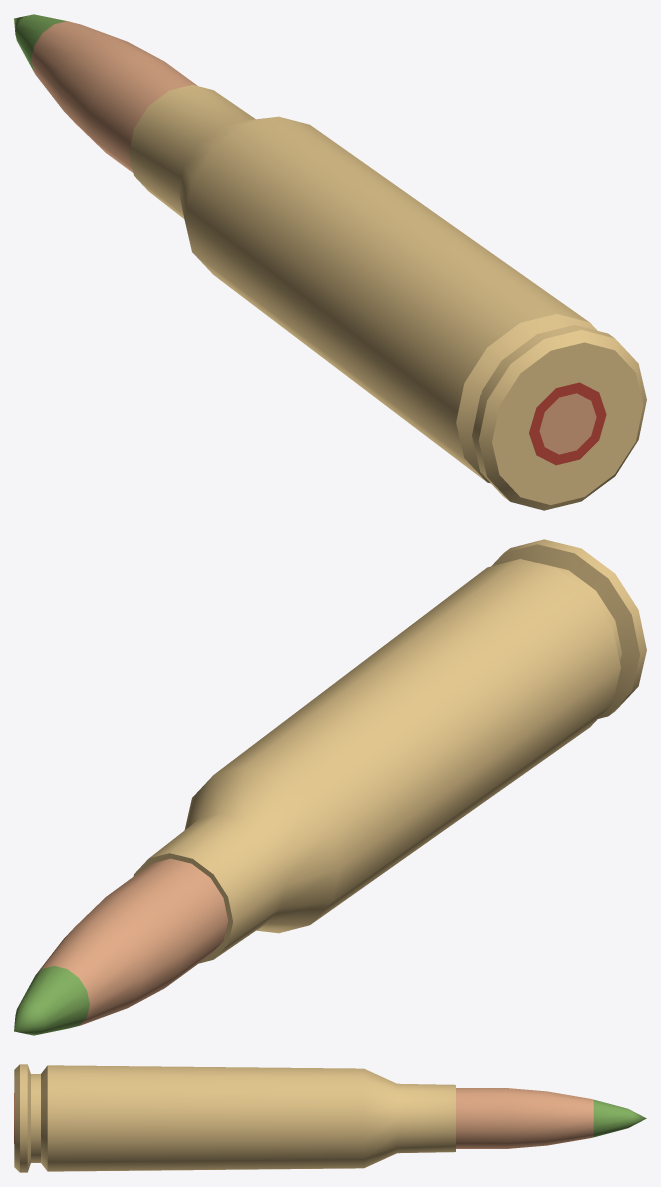
The model's file is round_545_tracer.glb.
3 views of the same model, one above another, from view 1: azimuth 30°, elevation 25°; view 2: azimuth 150°, elevation 25°; view 3: azimuth 270°, elevation 25° (orthographic). The views are drawn at different scales.
Parts seen in each view (by area): view 1: body; view 2: body; view 3: body.
Boxes of the visible parts, bbox=[...] form: body: bbox=[14, 14, 646, 510]; body: bbox=[14, 539, 646, 1035]; body: bbox=[14, 1064, 646, 1172].
Size of the model in its own units: 0.01 by 0.00975 by 0.057.
